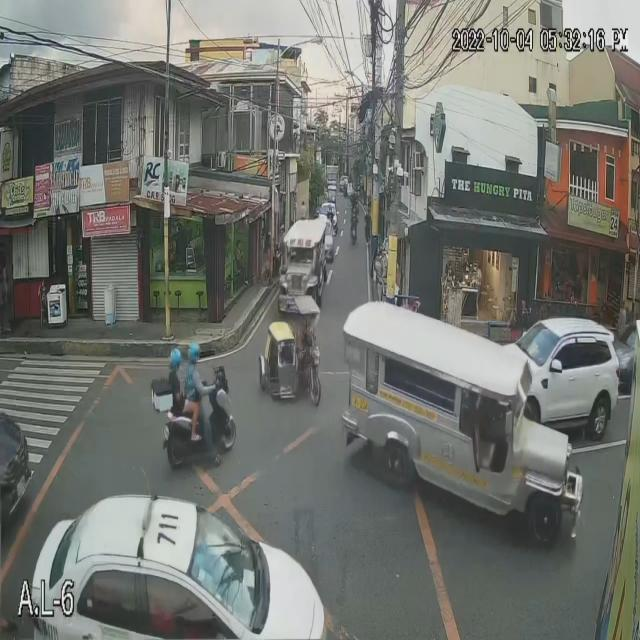half: (188, 339, 202, 368), (168, 347, 182, 375)
